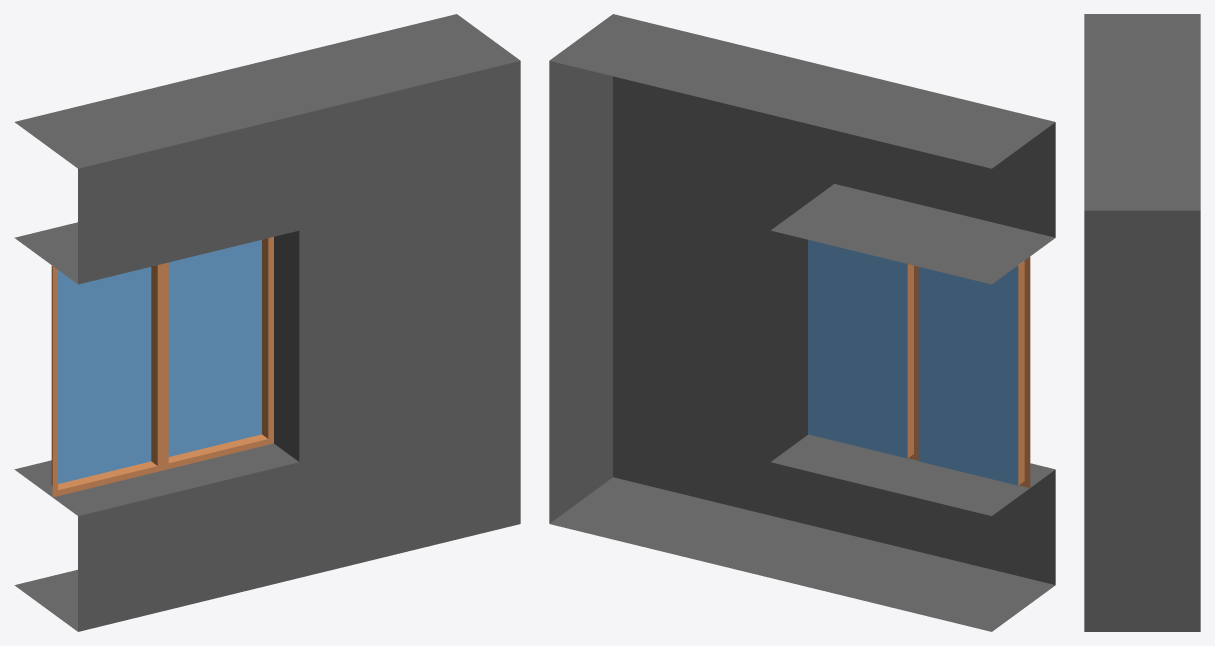
The model's file is factory_wall_window_right.fbx.
The picture shows the model from 3 angles, left to right: view 1: azimuth 30°, elevation 25°; view 2: azimuth 150°, elevation 25°; view 3: azimuth 270°, elevation 25°; orthographic projection. The views are drawn at different scales.
Parts seen in each view (by area): view 1: factory_wall_window_right; view 2: factory_wall_window_right; view 3: factory_wall_window_right.
Part boxes in pixels (x1,y1,x2,y2): factory_wall_window_right: (14,14,520,631); factory_wall_window_right: (549,14,1055,631); factory_wall_window_right: (1084,14,1200,631).
Size of the model in its own units: 400 by 400 by 100.
